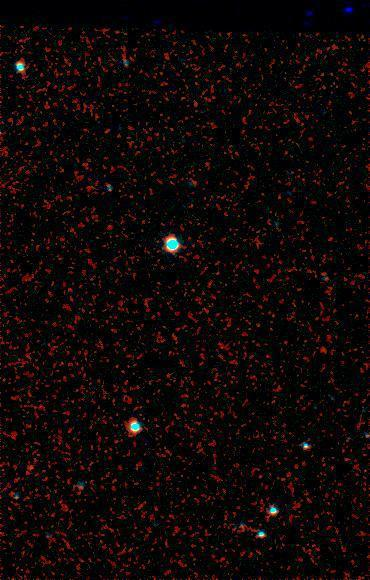star: (17, 454, 47, 484)
